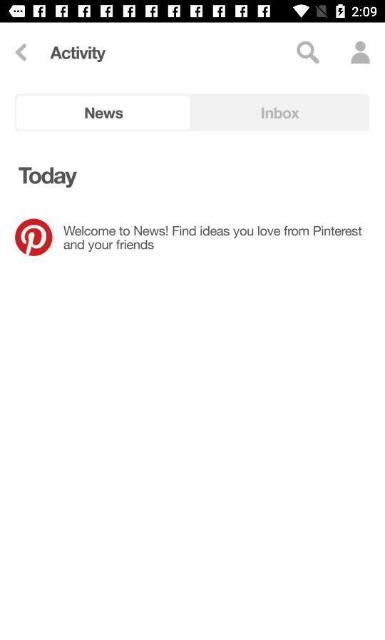Icon: (296, 41, 320, 64), (350, 41, 370, 64), (15, 43, 27, 61)
Image: (15, 219, 53, 257)
Text: (63, 225, 362, 252), (18, 166, 78, 188), (50, 46, 106, 62), (85, 108, 123, 119), (262, 108, 298, 119)
TextButton: (190, 94, 370, 130), (15, 94, 190, 130)
Toolbar: (0, 22, 384, 80)
UpperTaskBar: (0, 0, 385, 22)
